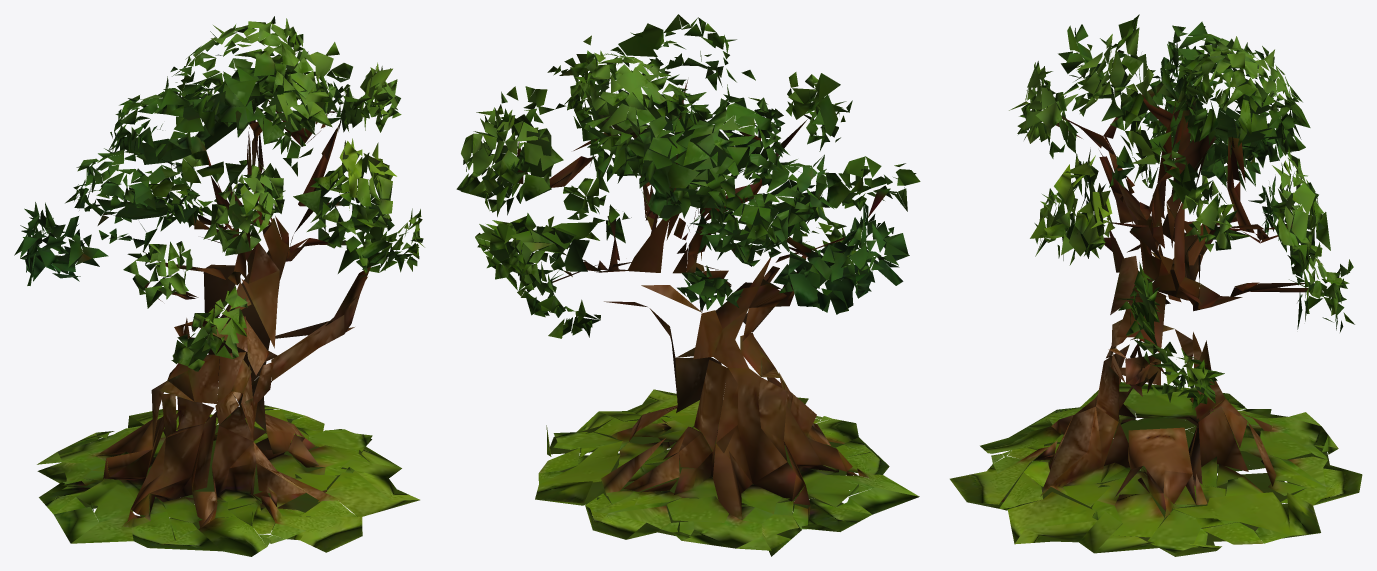
File: tripo-carvalho153-lod.glb
3 views of the same model, side by side, from view 1: azimuth 30°, elevation 25°; view 2: azimuth 150°, elevation 25°; view 3: azimuth 270°, elevation 25° (orthographic). The views are drawn at different scales.
Parts seen in each view (by area): view 1: tripo_node_1be1100f-a075-4daa-8b85-816c6203dff2; view 2: tripo_node_1be1100f-a075-4daa-8b85-816c6203dff2; view 3: tripo_node_1be1100f-a075-4daa-8b85-816c6203dff2.
Part boxes in pixels (x1=…): tripo_node_1be1100f-a075-4daa-8b85-816c6203dff2: x1=14, y1=16, x2=424, y2=556; tripo_node_1be1100f-a075-4daa-8b85-816c6203dff2: x1=456, y1=14, x2=920, y2=556; tripo_node_1be1100f-a075-4daa-8b85-816c6203dff2: x1=950, y1=14, x2=1362, y2=556.
Size of the model in its own units: 0.9635 by 0.9728 by 0.7554.
Materials: 1 (1 with a texture image).
